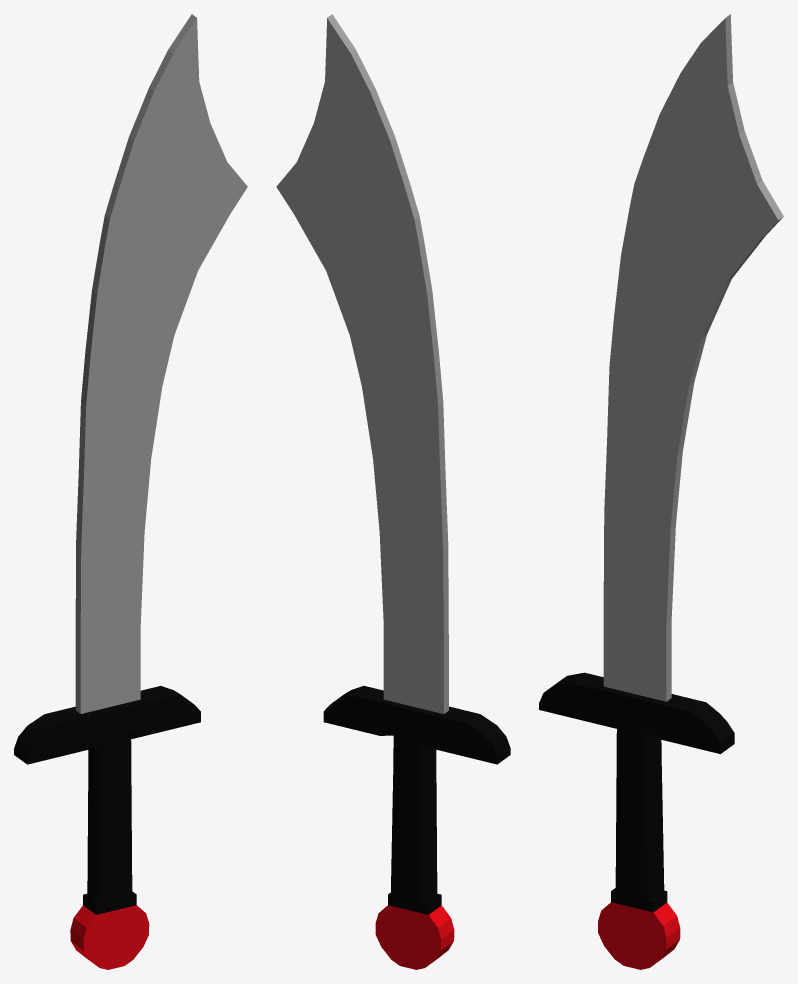
The model's file is sword.glb.
The picture shows the model from 3 angles, left to right: view 1: azimuth 30°, elevation 25°; view 2: azimuth 150°, elevation 25°; view 3: azimuth 330°, elevation 25°; orthographic projection. The views are drawn at different scales.
Visible parts, largest first — view 1: Plane; view 2: Plane; view 3: Plane.
Boxes of the visible parts, left/top/right/bottom form: Plane: left=14, top=14, right=247, bottom=969; Plane: left=276, top=14, right=510, bottom=969; Plane: left=539, top=14, right=783, bottom=969.
Bounding box in the file's own units: 0.4442 × 1.75 × 0.0456.
